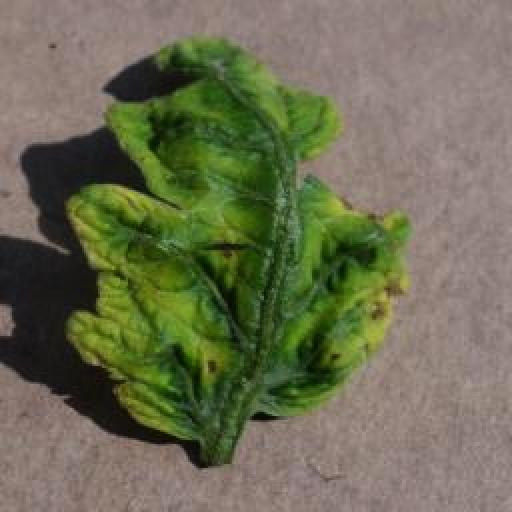disease_tomato: (66, 42, 412, 436)
